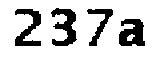2: (10, 6, 44, 52)
3: (47, 6, 79, 52)
7: (84, 4, 115, 53)
a: (117, 17, 146, 50)
